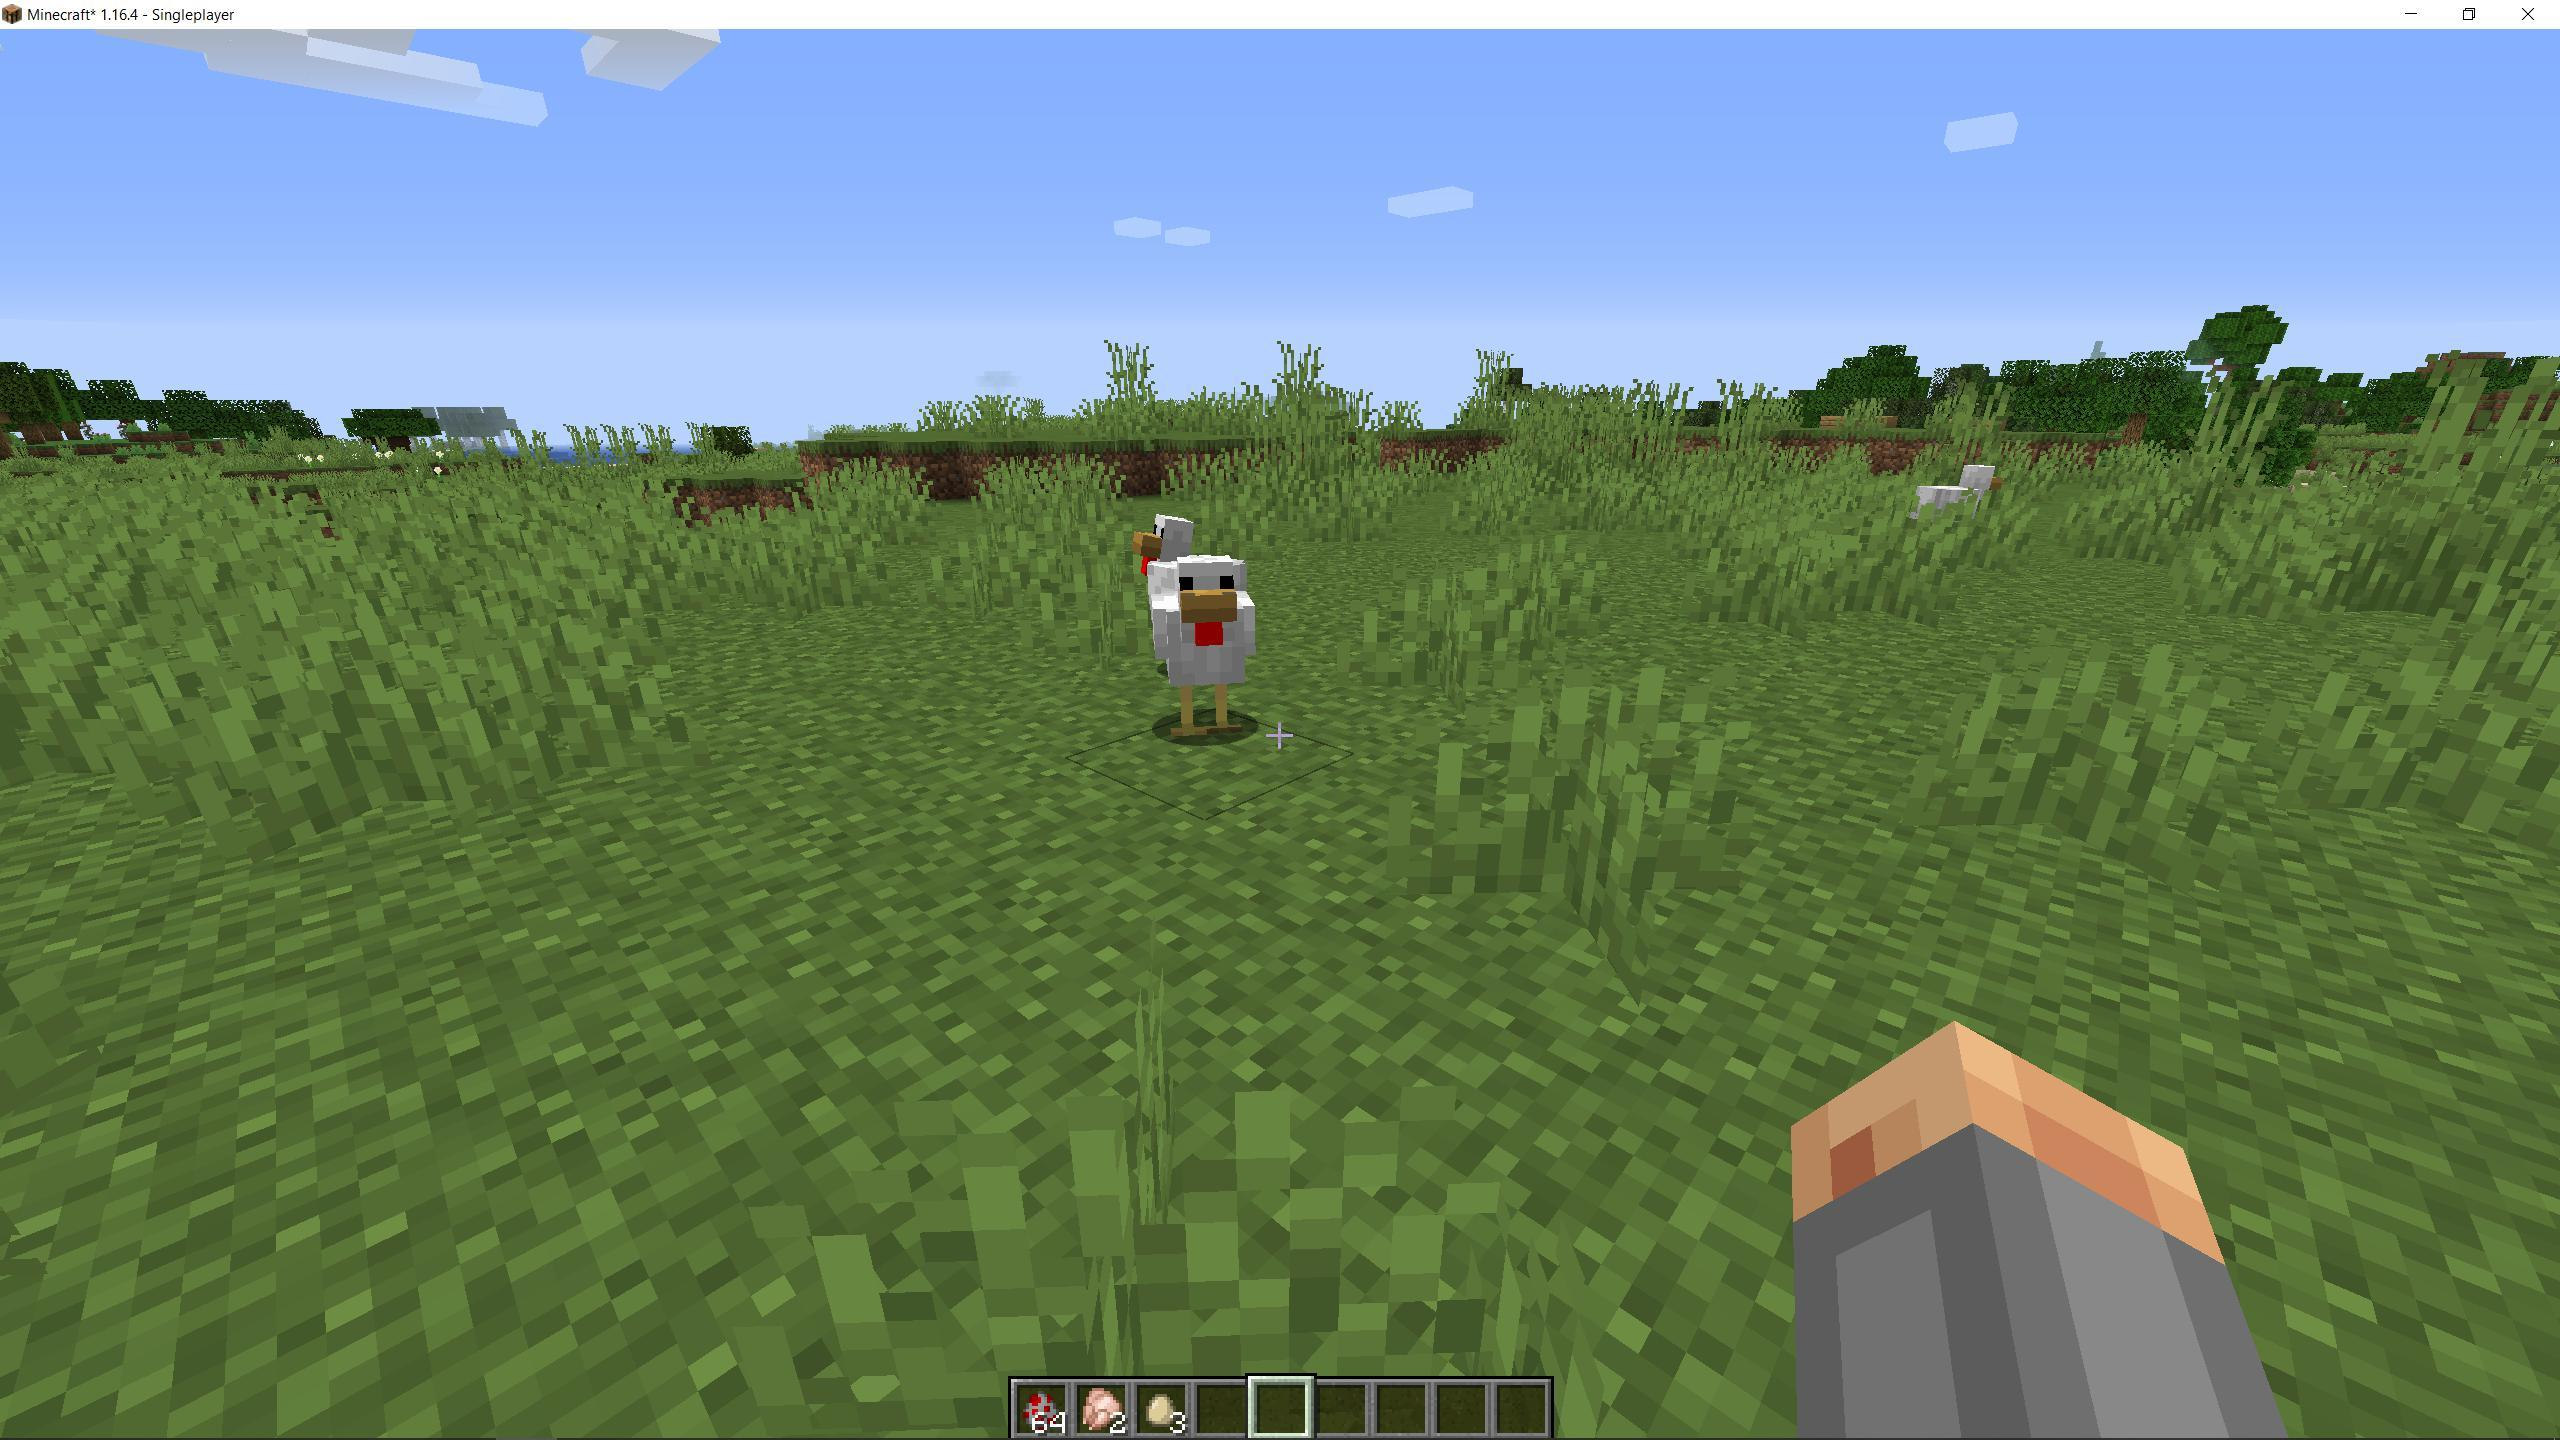chicken: (1167, 563, 1259, 733), (1125, 505, 1225, 622), (1904, 455, 2004, 570)
